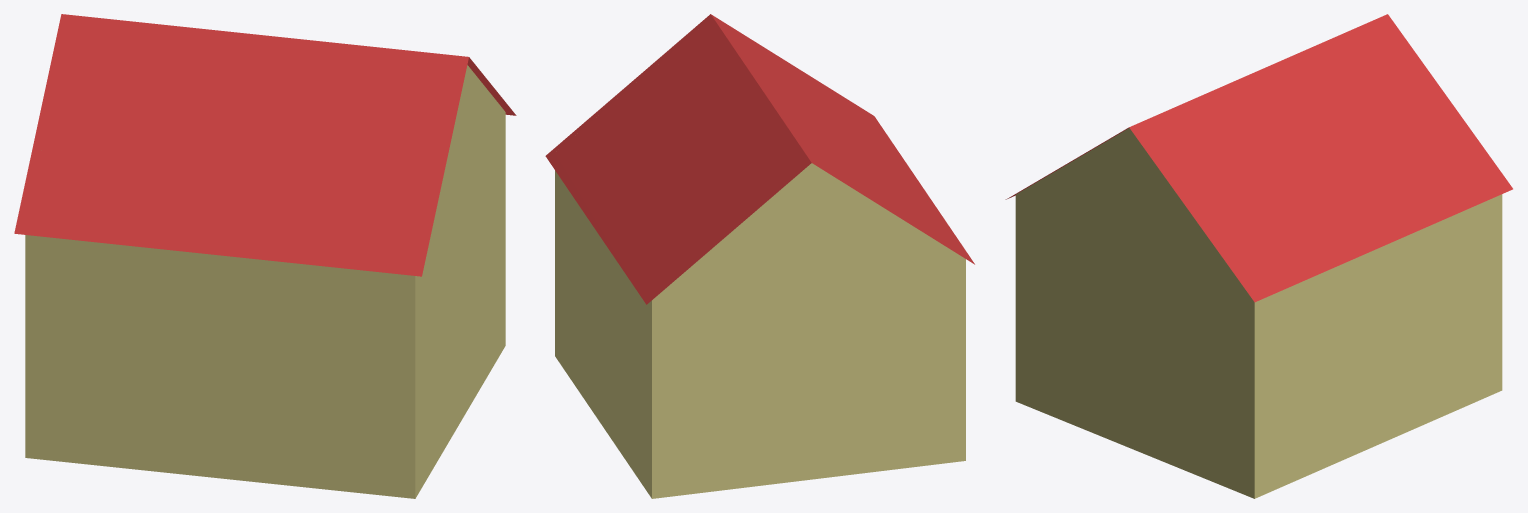
3 views of the same model, side by side, from view 1: azimuth 30°, elevation 25°; view 2: azimuth 150°, elevation 25°; view 3: azimuth 270°, elevation 25° (orthographic). The views are drawn at different scales.
Bounding box in the file's own units: 15.91 × 15.89 × 11.2.
